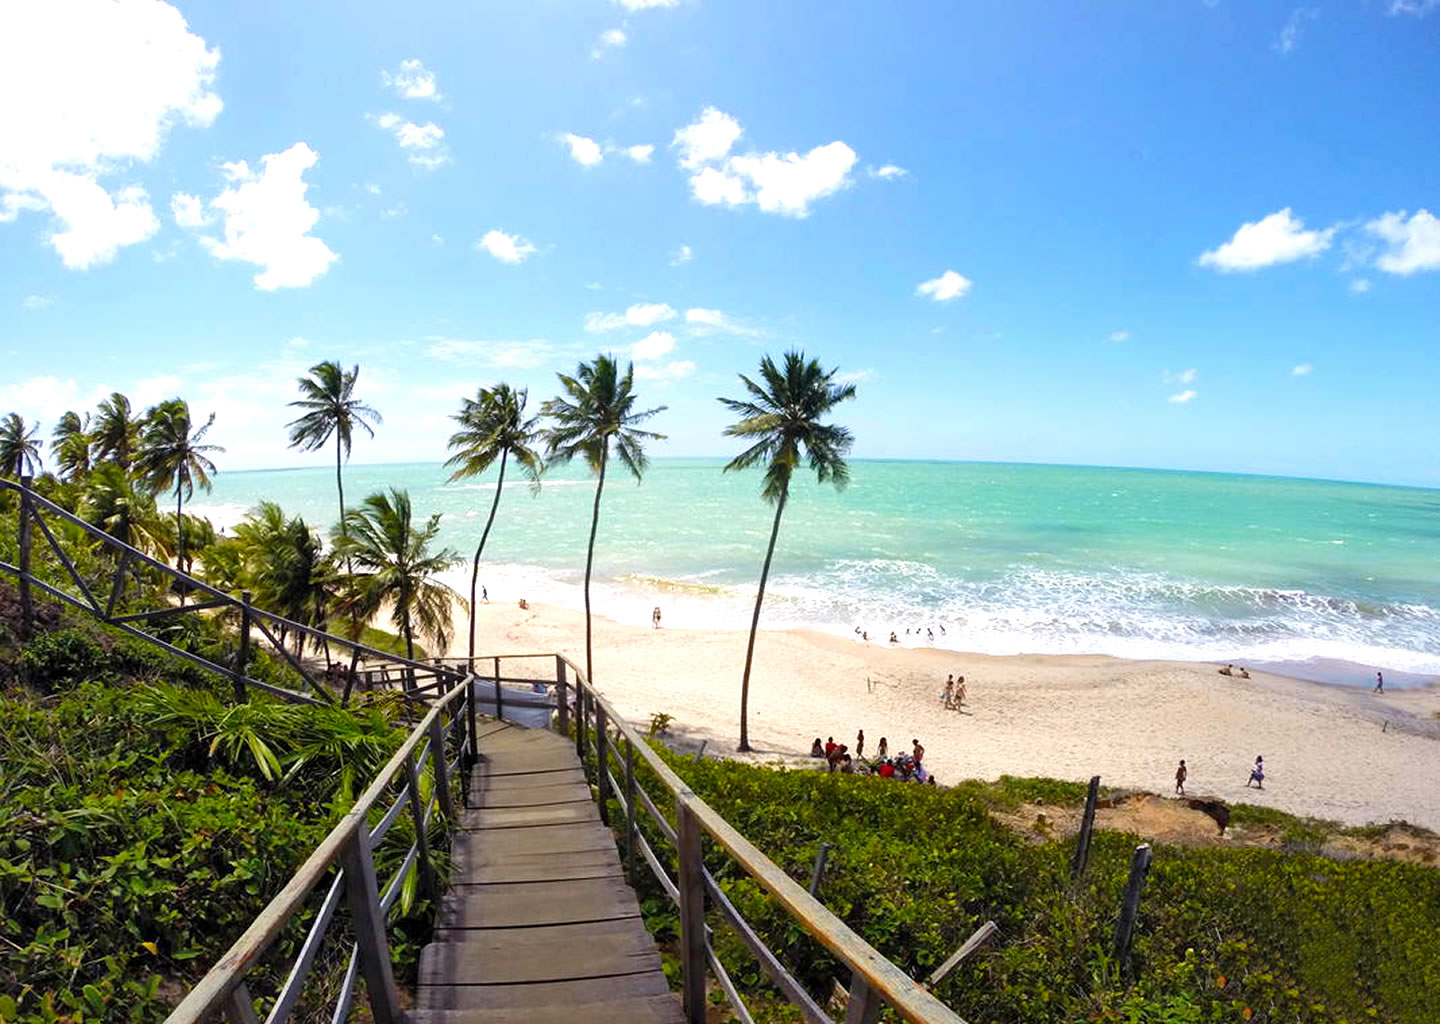Humano: (1171, 750, 1192, 800), (910, 733, 929, 773), (1248, 753, 1267, 791), (942, 672, 955, 710), (479, 581, 495, 606), (954, 681, 965, 713), (874, 735, 888, 759)
